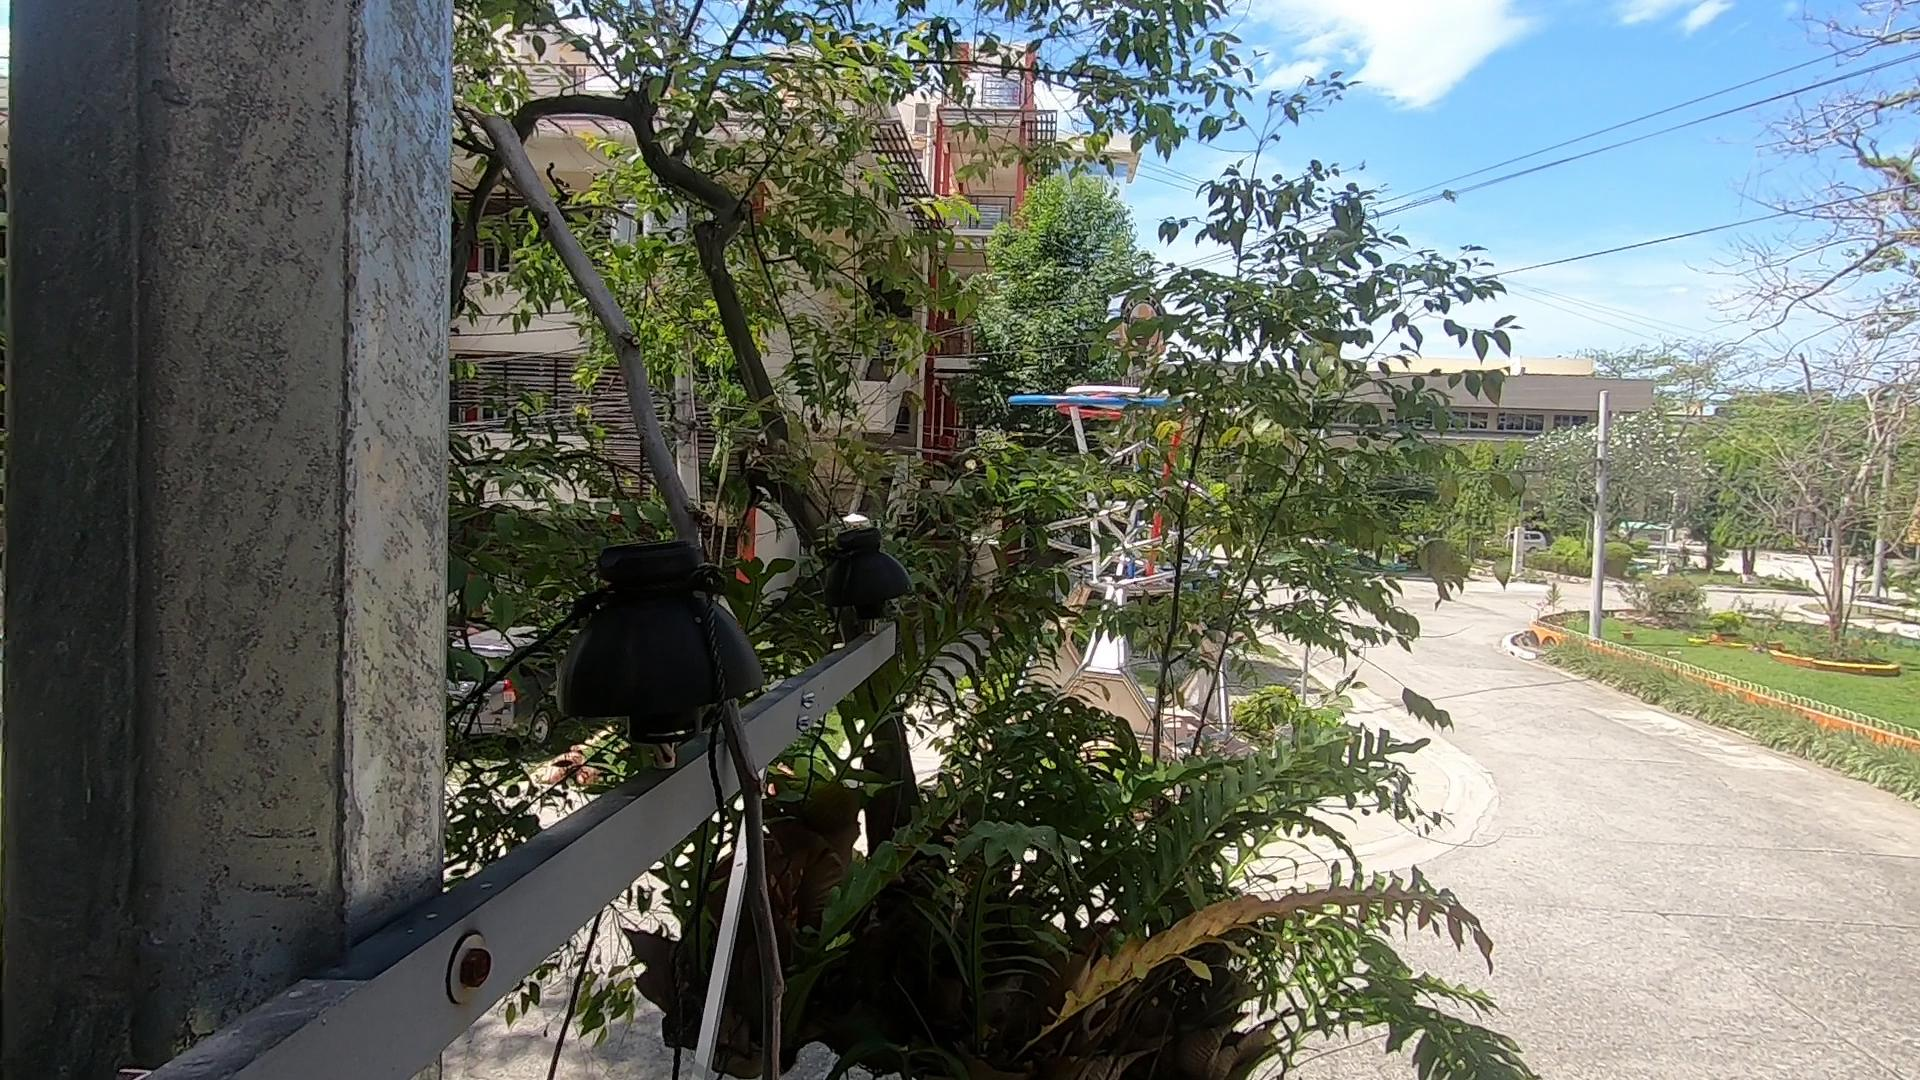tree branch: (454, 69, 866, 1073)
